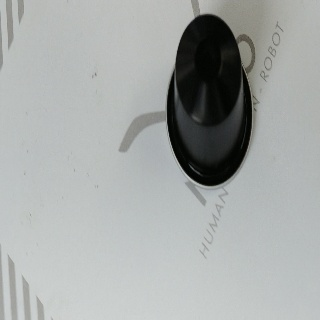capsule_10: (165, 13, 254, 191)
